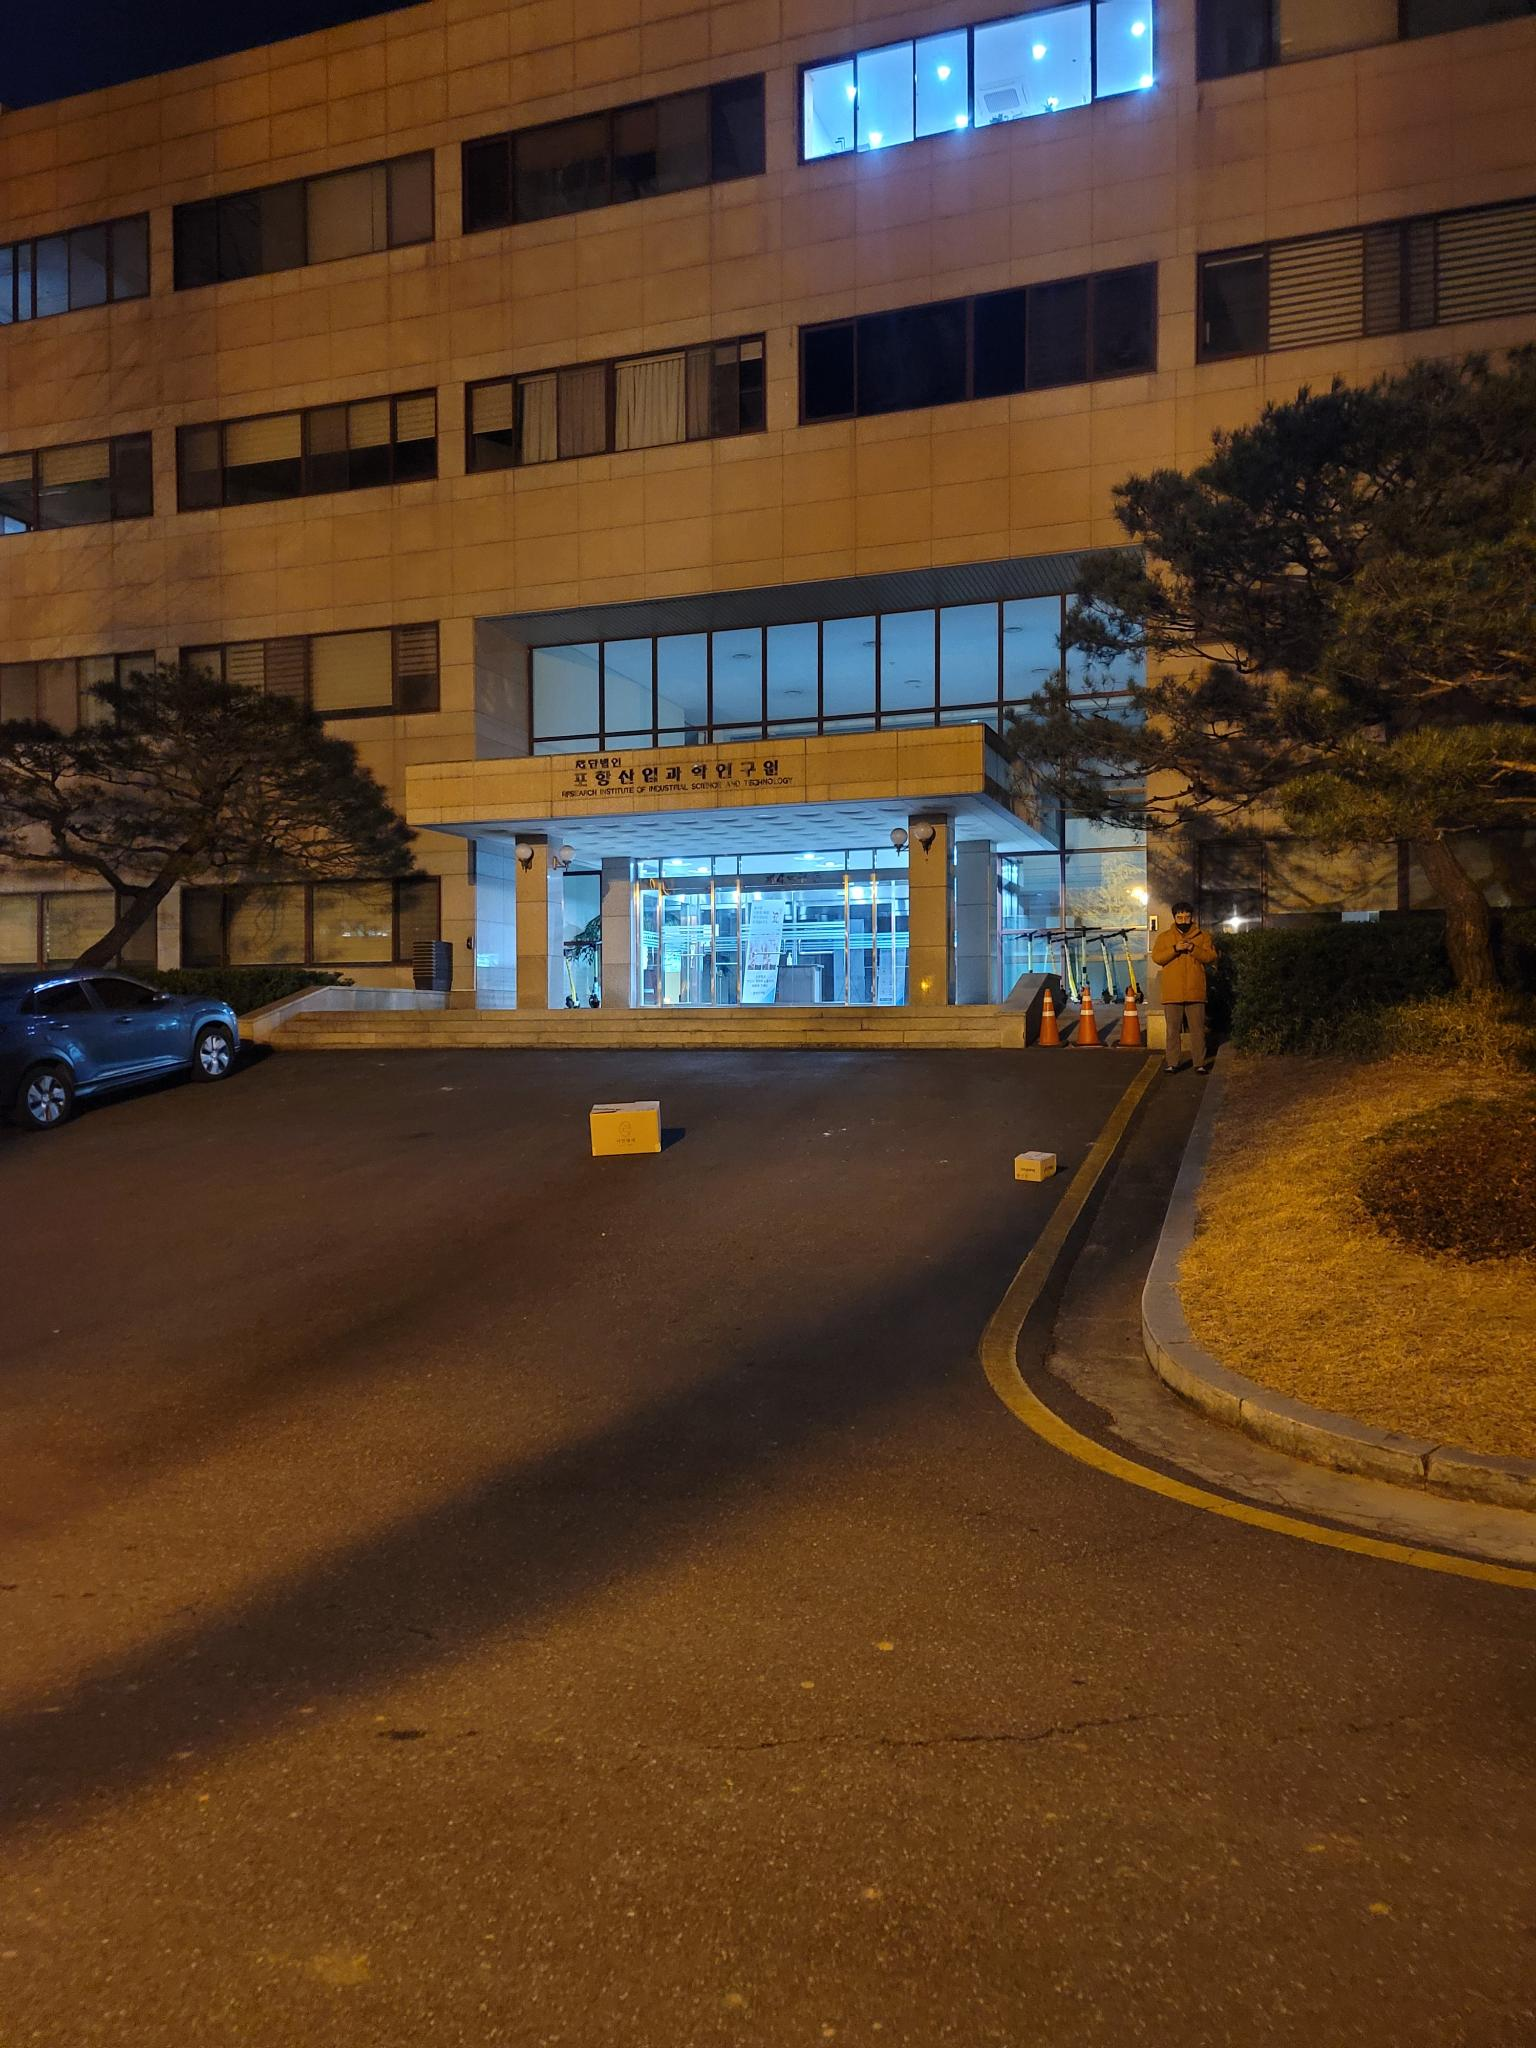Box: (578, 1089, 668, 1168), (1015, 1142, 1063, 1180)
